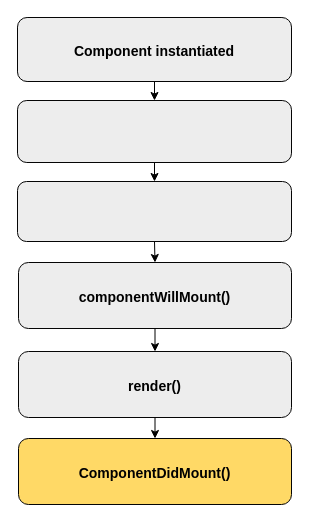
Some shapes in this 309 by 522 pixel diagram are drawn without their labels. Here are the shapes that lost their labels. From the top down, the centre of each, then its label:
At (x=154, y=131): "initial state".
At (x=154, y=211): "default props".
